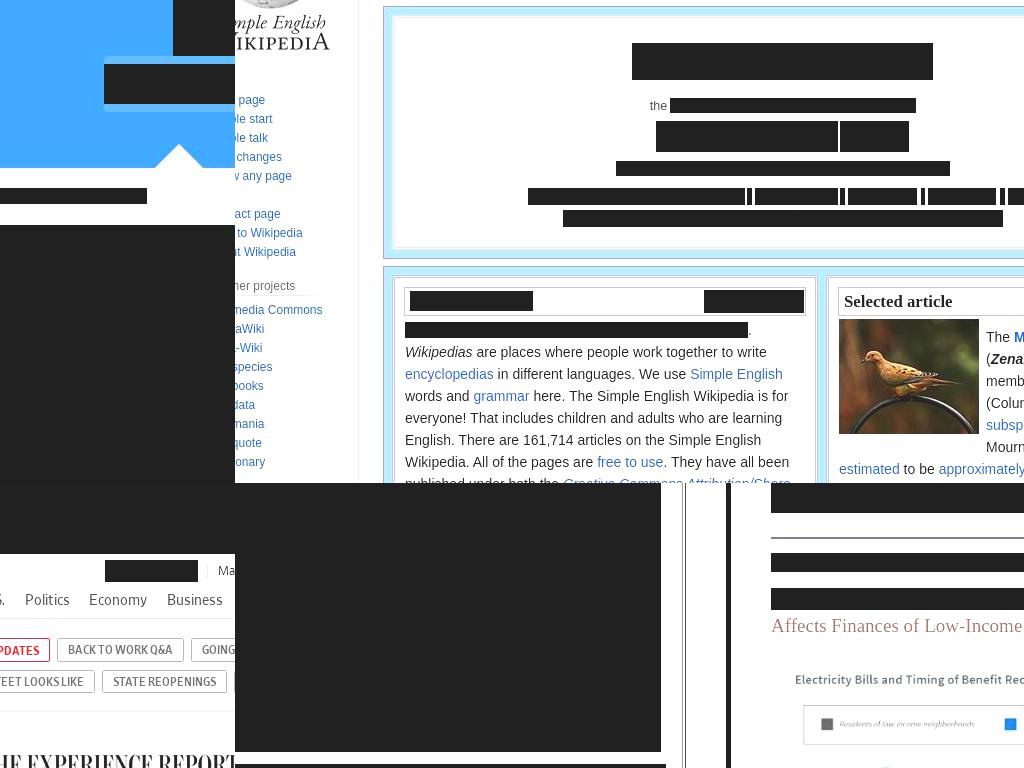button: (0, 225, 235, 483), (0, 489, 235, 554), (57, 638, 184, 662), (102, 670, 227, 693), (0, 670, 95, 693), (80, 586, 156, 613), (105, 560, 198, 582), (157, 586, 232, 613), (15, 586, 79, 613), (0, 638, 50, 662), (191, 638, 235, 662), (0, 586, 14, 613)
field: (656, 121, 838, 152), (840, 121, 909, 152)
heading: (235, 0, 363, 483), (632, 43, 804, 80), (771, 588, 1024, 610), (771, 614, 1024, 636), (802, 43, 933, 80), (771, 553, 1024, 572), (410, 291, 533, 311), (844, 291, 953, 311), (235, 278, 341, 293)
image: (235, 483, 661, 752), (771, 653, 1024, 768), (88, 313, 235, 481), (839, 319, 979, 434), (235, 0, 350, 66), (704, 290, 804, 313), (726, 483, 731, 768)
link: (528, 188, 745, 205), (578, 322, 748, 338), (807, 161, 950, 176), (563, 210, 673, 227), (805, 98, 916, 113), (690, 366, 784, 382), (405, 366, 494, 382), (755, 188, 838, 205), (938, 461, 1024, 477), (235, 302, 324, 317), (697, 98, 778, 113), (848, 188, 917, 205), (928, 188, 996, 205), (597, 454, 664, 470), (235, 225, 304, 240), (839, 461, 900, 477), (235, 244, 297, 259), (473, 388, 531, 404), (235, 168, 293, 183), (235, 149, 283, 164), (235, 206, 282, 221), (680, 161, 726, 176), (986, 417, 1024, 433), (235, 111, 274, 126), (235, 359, 274, 374), (235, 130, 269, 145), (235, 92, 266, 107), (235, 321, 266, 336), (235, 416, 266, 431), (235, 454, 266, 469), (235, 378, 265, 393), (235, 340, 264, 355), (235, 435, 263, 450), (235, 397, 256, 412), (1008, 188, 1024, 205)
text: (405, 388, 788, 470), (405, 454, 790, 483), (771, 483, 1024, 513), (672, 210, 1003, 227), (472, 344, 767, 360), (839, 461, 1024, 483), (493, 366, 690, 382), (405, 322, 579, 338), (130, 250, 235, 274), (0, 188, 147, 204), (5, 250, 94, 274), (986, 351, 1024, 389), (986, 417, 1024, 455), (726, 161, 808, 176), (405, 344, 473, 360), (405, 388, 473, 404), (616, 161, 682, 176), (105, 565, 186, 577), (899, 461, 939, 477), (986, 395, 1024, 411), (990, 351, 1024, 367), (0, 645, 39, 658), (986, 329, 1014, 345), (777, 98, 806, 113), (670, 98, 697, 113), (649, 98, 671, 113), (217, 564, 235, 578), (116, 256, 126, 266), (747, 188, 752, 205), (840, 188, 845, 205), (1000, 188, 1005, 205), (748, 322, 753, 338), (986, 351, 991, 367), (921, 188, 925, 205)
